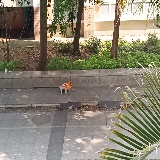fire: (62, 82, 72, 90)
